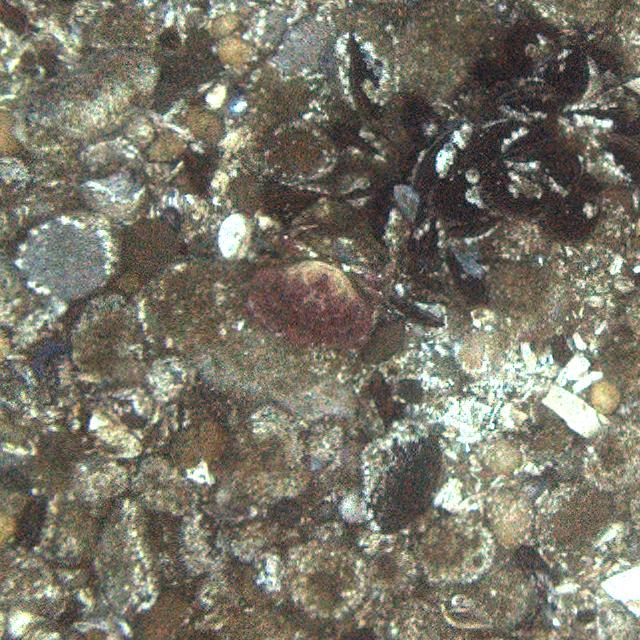crab: (230, 222, 402, 358)
